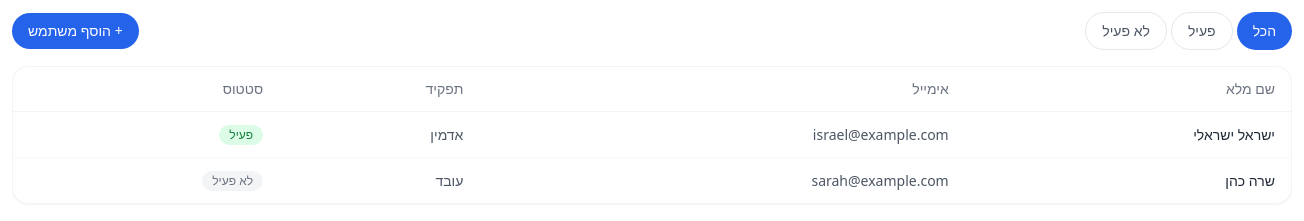
status filter › "לא פעיל" filter shows only inactive rows
Expected: the text "שרה כהן" is shown, [965,158,1291,203]
Step 1. Click the button "לא פעיל" → click(1126, 31), box [1085,12,1167,50]
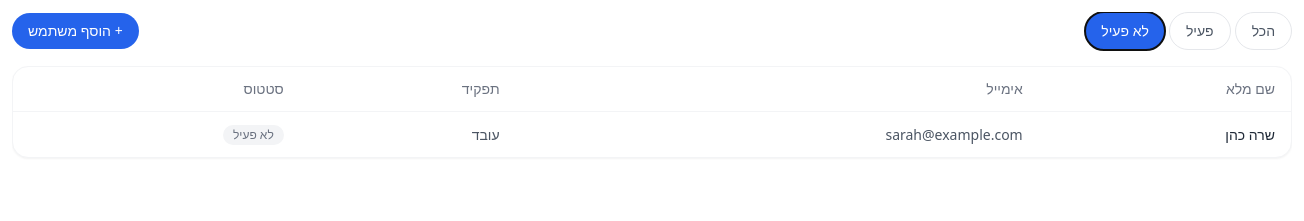
Expected: the text "שרה כהן" is shown, [1039,112,1291,157]
Now the text "ישראל ישראלי" is gone
